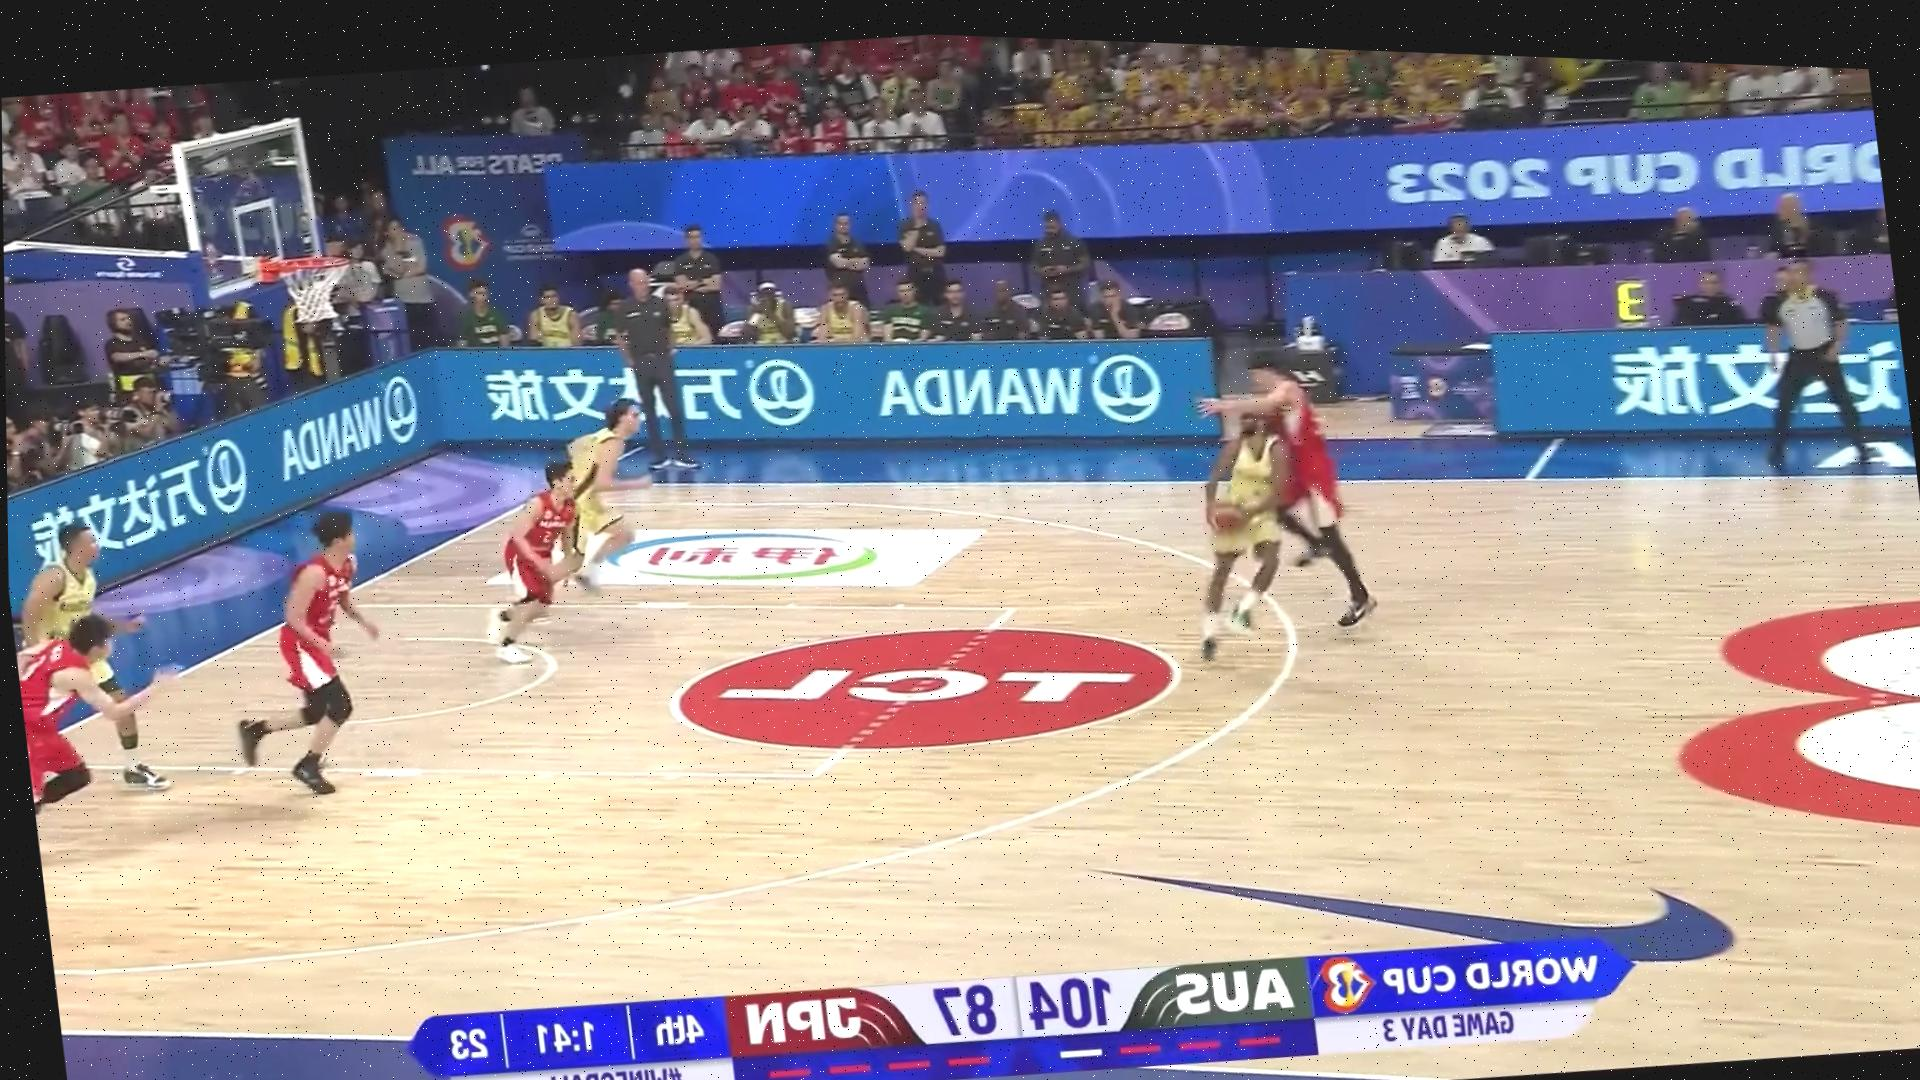foul: (1148, 321, 1419, 688)
